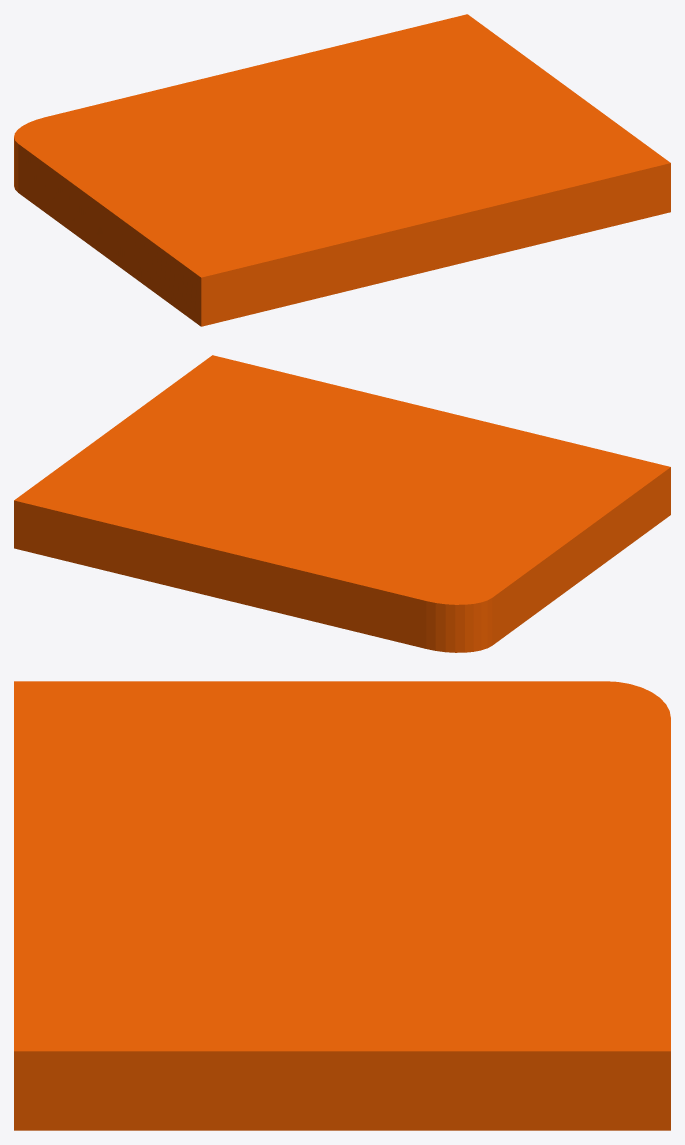
File: orange infrastructure board.fbx
3 renders of one model, top to bottom at view 1: azimuth 30°, elevation 25°; view 2: azimuth 150°, elevation 25°; view 3: azimuth 270°, elevation 25°, orthographic. The views are drawn at different scales.
Visible parts, largest first — view 1: Cube.001; view 2: Cube.001; view 3: Cube.001.
Part boxes in pixels (bbox=[...]): Cube.001: bbox=[14, 14, 670, 326]; Cube.001: bbox=[14, 355, 670, 652]; Cube.001: bbox=[14, 681, 670, 1130].
Bounding box in the file's own units: 200 × 20 × 150.
